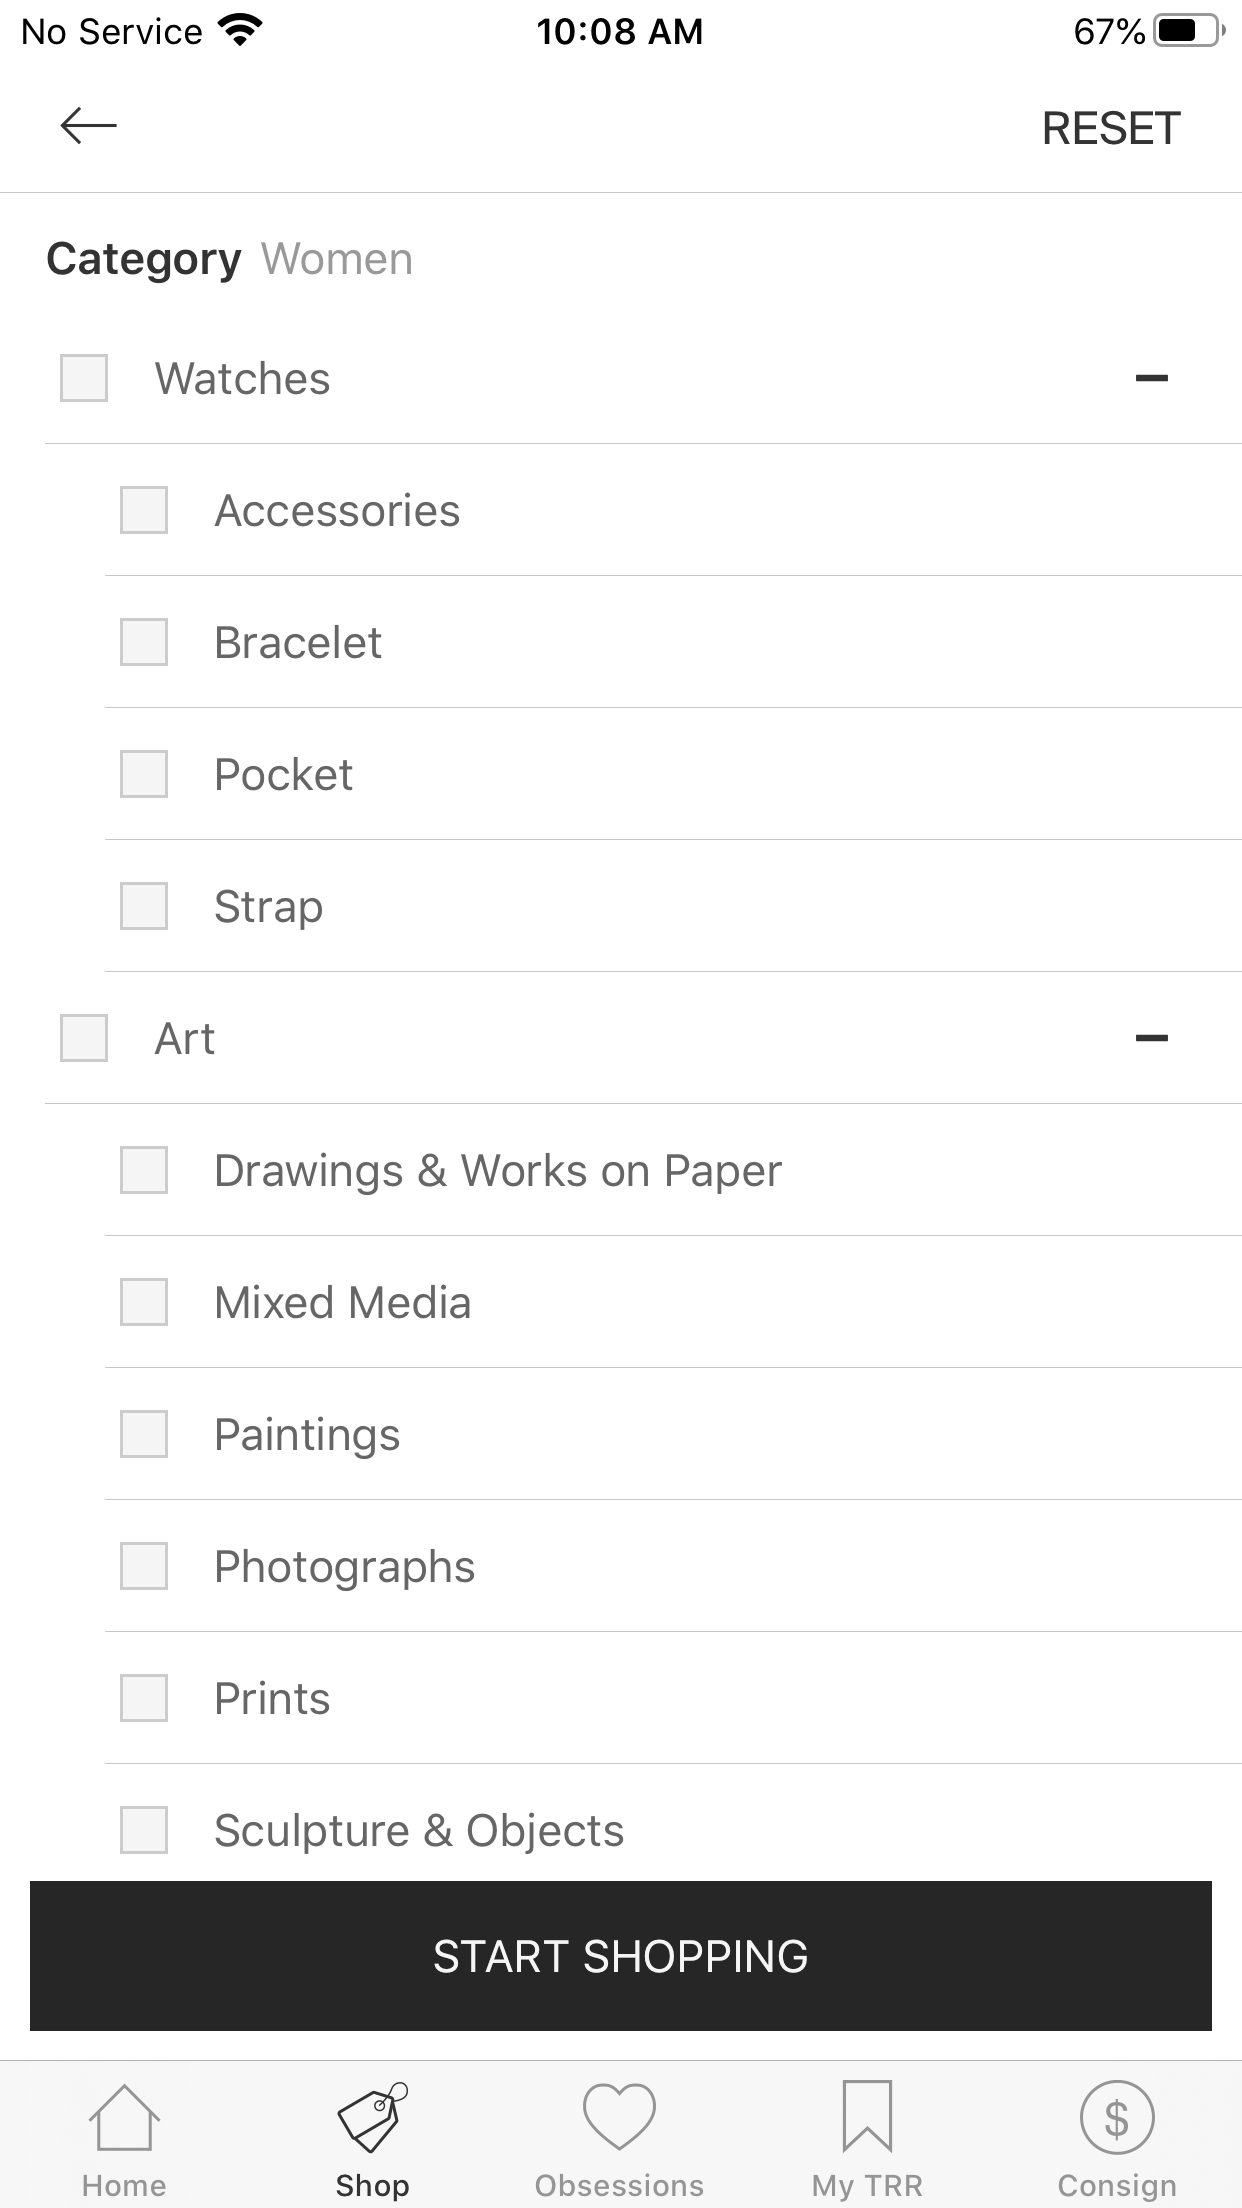CheckBox: (121, 1542, 168, 1589)
CheckedTextView: (120, 1146, 783, 1197), (120, 1805, 623, 1856), (120, 485, 461, 535), (120, 1278, 472, 1327), (120, 1409, 400, 1463), (61, 353, 331, 403), (120, 619, 384, 667), (121, 751, 353, 801), (120, 1674, 331, 1723), (120, 883, 323, 931), (61, 1015, 215, 1063)
Icon: (1080, 2081, 1156, 2155), (338, 2082, 409, 2153), (584, 2084, 657, 2150), (89, 2084, 162, 2150), (842, 2081, 893, 2153), (61, 108, 118, 146), (1136, 1034, 1168, 1043), (1136, 375, 1168, 384)
Text: (218, 1153, 783, 1195), (215, 1812, 623, 1855), (218, 1548, 476, 1591), (218, 1284, 472, 1319), (215, 493, 461, 528), (218, 1416, 400, 1462), (49, 243, 243, 284), (156, 362, 331, 396), (218, 625, 384, 660), (262, 243, 412, 276), (1043, 111, 1181, 146), (218, 757, 353, 792), (215, 890, 323, 931), (535, 2173, 704, 2197), (217, 1680, 331, 1715), (1059, 2173, 1175, 2202), (813, 2175, 922, 2202), (337, 2173, 409, 2202), (155, 1024, 215, 1055), (83, 2175, 167, 2197)
TextButton: (30, 1880, 1212, 2031)
UpperTaskBar: (2, 2, 1242, 49)
